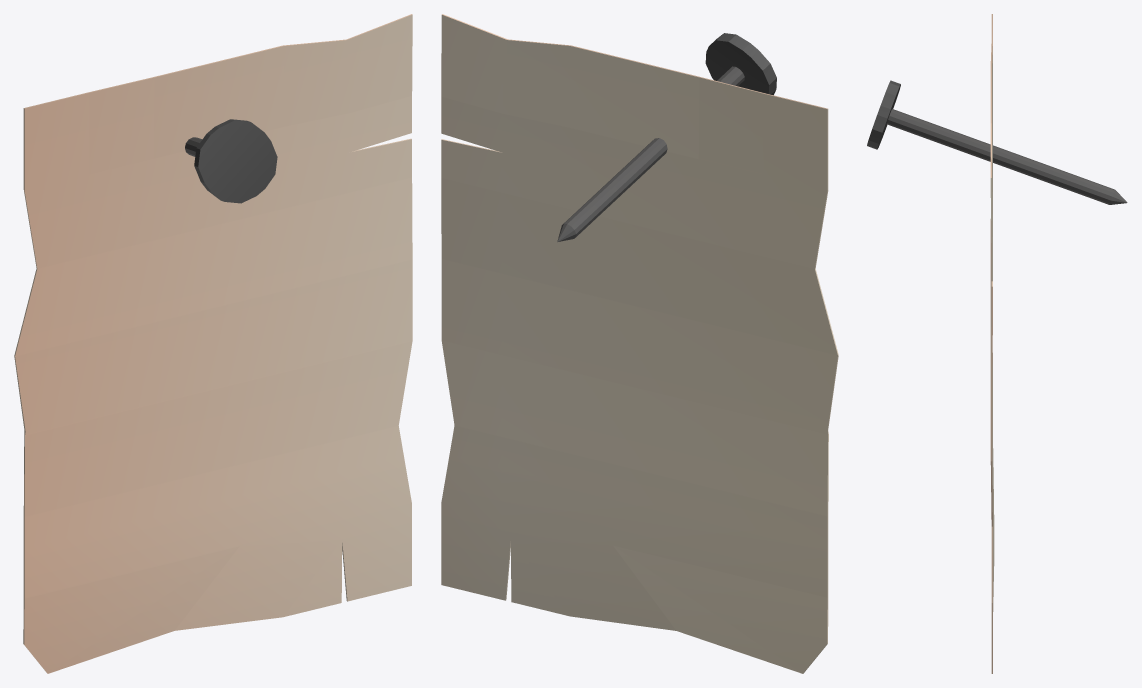
Rendered from Note_A6_Pinned.fbx.
3 renders of one model, left to right at view 1: azimuth 30°, elevation 25°; view 2: azimuth 150°, elevation 25°; view 3: azimuth 270°, elevation 25°, orthographic. The views are drawn at different scales.
Visible parts, largest first — view 1: Note A6 pinned; view 2: Note A6 pinned; view 3: Note A6 pinned.
Part boxes in pixels (box(x1,y1,x2,y2)): Note A6 pinned: box(14, 14, 412, 673); Note A6 pinned: box(441, 14, 838, 673); Note A6 pinned: box(867, 14, 1127, 673).
Bounding box in the file's own units: 10.77 × 14.8 × 7.06.
